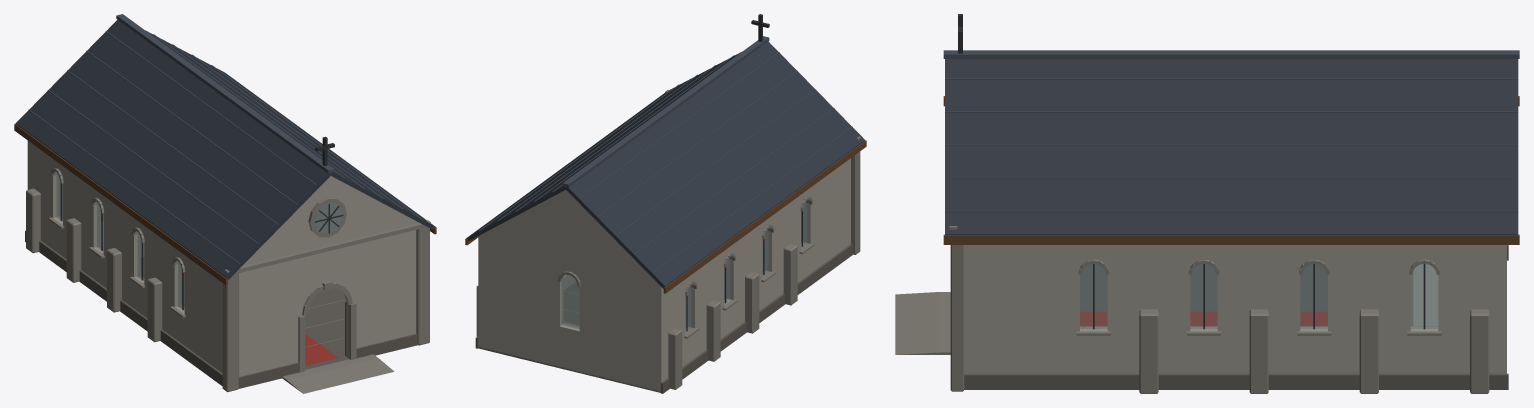
The model's file is SM_Bld_Church_Nave_01.glb.
3 views of the same model, side by side, from view 1: azimuth 30°, elevation 25°; view 2: azimuth 150°, elevation 25°; view 3: azimuth 270°, elevation 25° (orthographic). The views are drawn at different scales.
Visible parts, largest first — view 1: SM_Bld_Church_Nave_01; view 2: SM_Bld_Church_Nave_01; view 3: SM_Bld_Church_Nave_01.
Part boxes in pixels (bbox=[...]): SM_Bld_Church_Nave_01: bbox=[14, 14, 436, 393]; SM_Bld_Church_Nave_01: bbox=[465, 14, 866, 393]; SM_Bld_Church_Nave_01: bbox=[895, 14, 1519, 393].
Bounding box in the file's own units: 12.02 × 12.4 × 22.65.
Materials: 2 (2 with a texture image).
